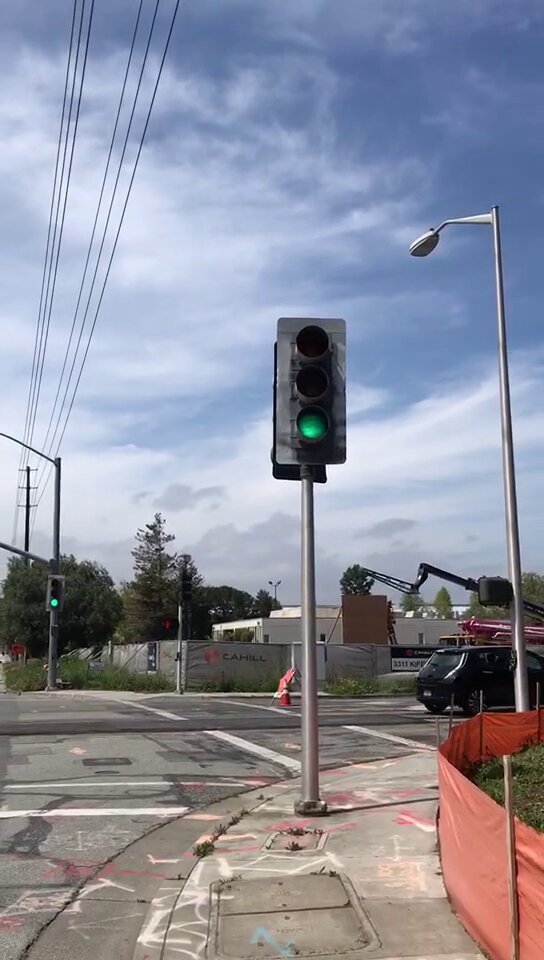green_light: (281, 320, 344, 458), (48, 575, 63, 611)
